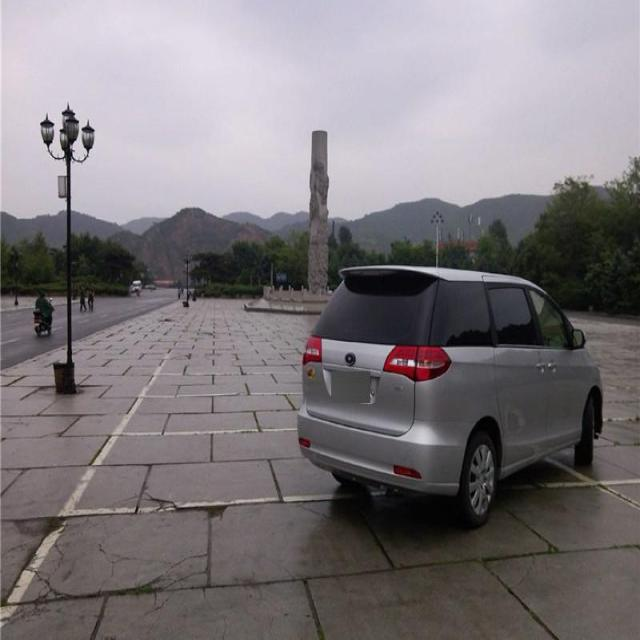back_glass: (307, 271, 442, 350)
back_left_side_light: (300, 332, 326, 372)
back_right_side_light: (381, 343, 452, 384)
door: (478, 280, 538, 464)
front_right_side_door: (526, 282, 582, 450)
front_right_side_mirror: (570, 327, 586, 350)
rear_bumper: (295, 403, 466, 499)
wheel: (451, 429, 501, 525), (570, 397, 596, 464)
